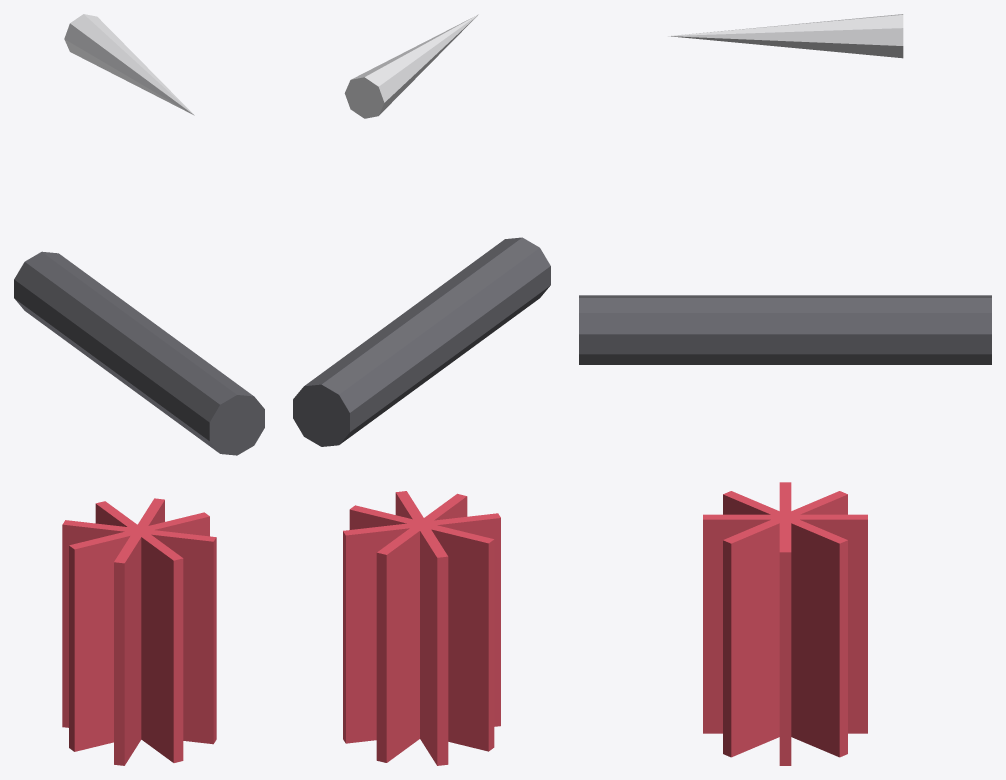
File: flechette.glb
3 renders of one model, left to right at view 1: azimuth 30°, elevation 25°; view 2: azimuth 150°, elevation 25°; view 3: azimuth 270°, elevation 25°, orthographic. The views are drawn at different scales.
Visible parts, largest first — view 1: Cylinder, Cube.002, Cube.001, Cube, Cube.003, Cone; view 2: Cylinder, Cube.002, Cube.003, Cube, Cube.001, Cone; view 3: Cylinder, Cube.003, Cube.001, Cube, Cone, Cube.002.
Part boxes in pixels (x1,y1,x2,y2): Cylinder: (14, 251, 264, 455); Cube.002: (69, 512, 209, 751); Cube.001: (62, 520, 216, 744); Cube: (95, 501, 183, 762); Cube.003: (114, 498, 164, 765); Cone: (64, 14, 194, 115); Cylinder: (293, 237, 550, 446); Cube.002: (349, 505, 494, 751); Cube.003: (343, 513, 500, 743); Cube: (376, 493, 467, 762); Cube.001: (395, 491, 448, 765); Cone: (344, 14, 478, 118); Cylinder: (579, 295, 991, 364); Cube.003: (723, 491, 847, 757); Cube.001: (723, 491, 847, 757); Cube: (703, 514, 867, 733); Cone: (668, 14, 903, 58); Cube.002: (779, 482, 791, 765).
Size of the model in its own units: 0.028 by 0.134 by 0.07.
